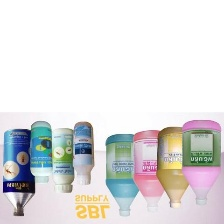insecticide: (178, 116, 223, 207), (102, 131, 146, 218), (130, 125, 171, 213), (0, 125, 37, 217), (154, 123, 193, 209), (47, 127, 77, 196), (70, 119, 97, 186), (26, 118, 51, 185)
